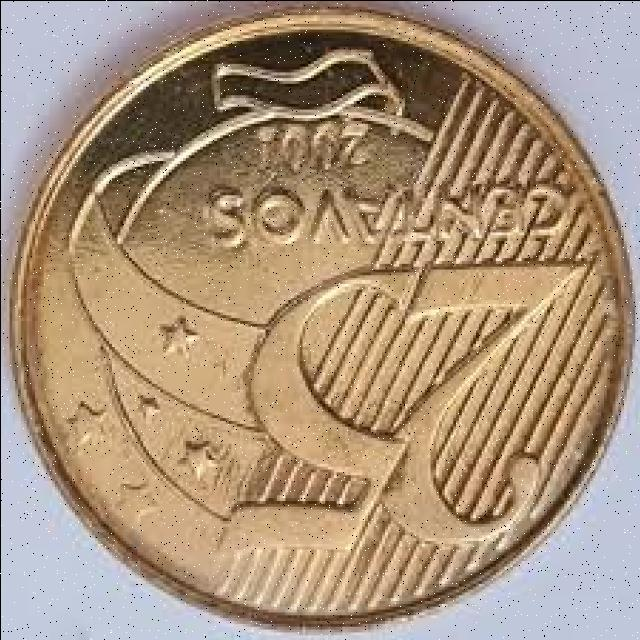25 cent: (25, 22, 628, 632)
